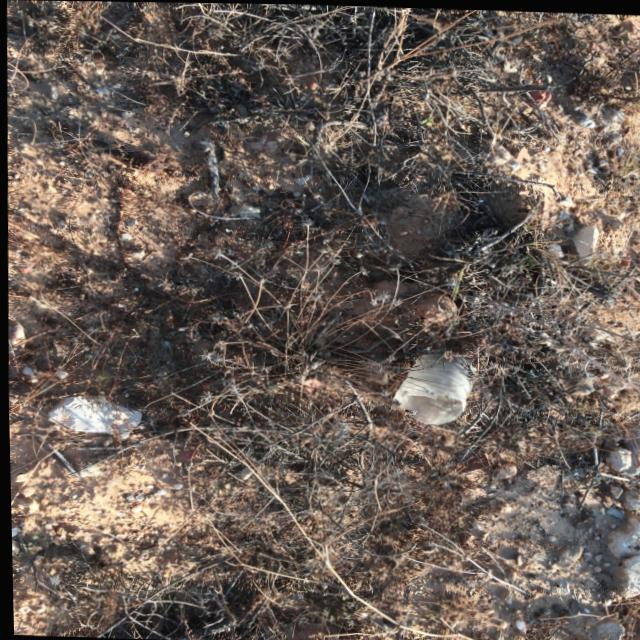Cardboard: (29, 375, 157, 448)
Plastic: (386, 313, 490, 434)
